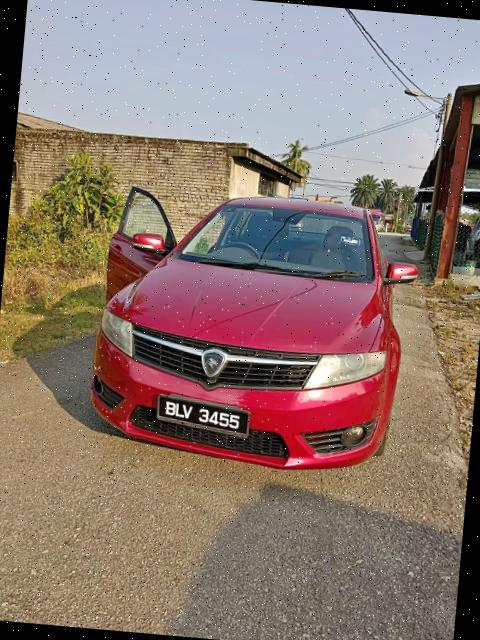License_Plate: (153, 388, 255, 451)
car: (75, 158, 433, 486)
